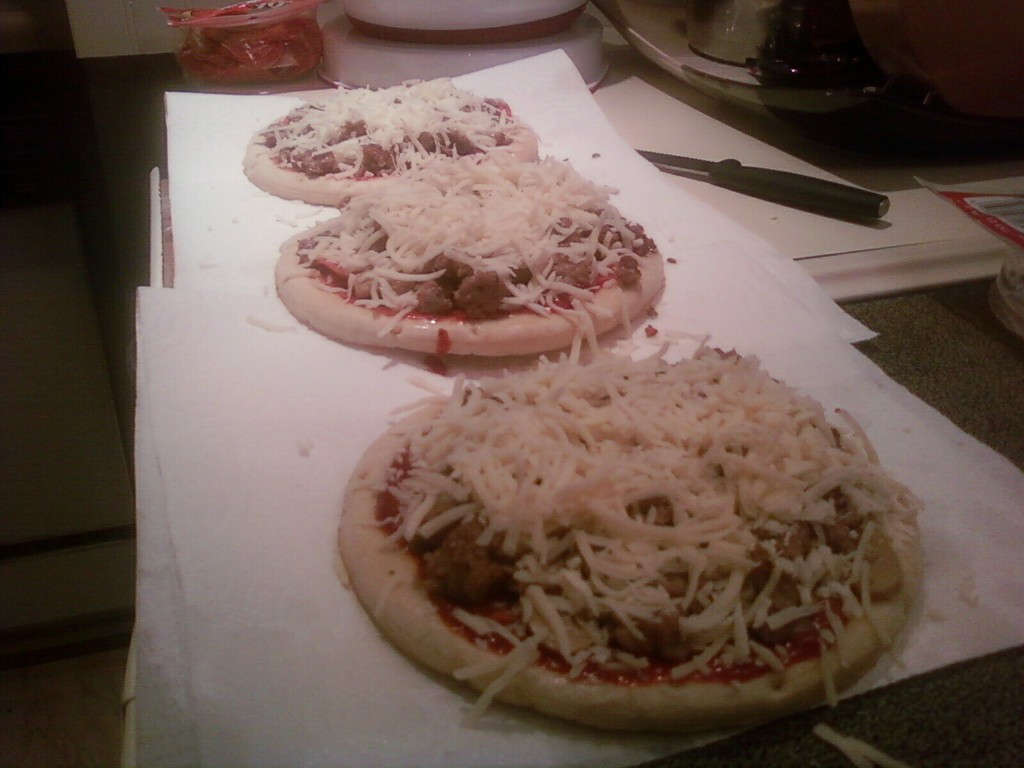Pizza: (360, 339, 925, 677), (277, 135, 655, 323), (252, 78, 556, 179)
